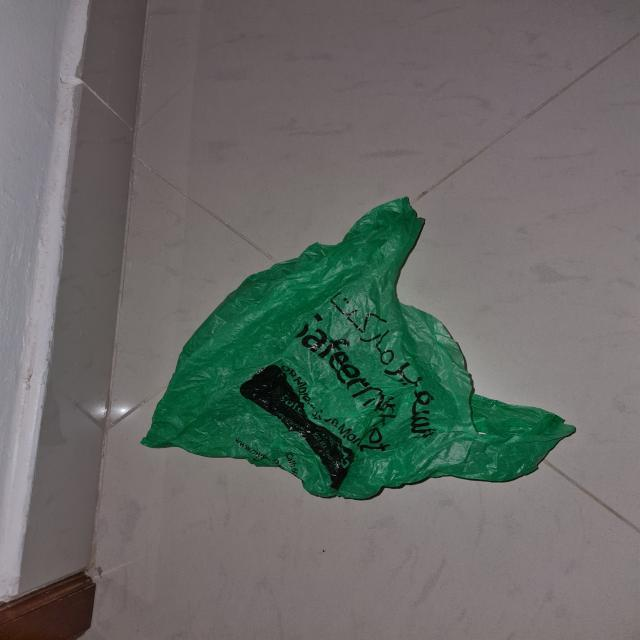Plastic_Bag: (140, 194, 580, 504)
